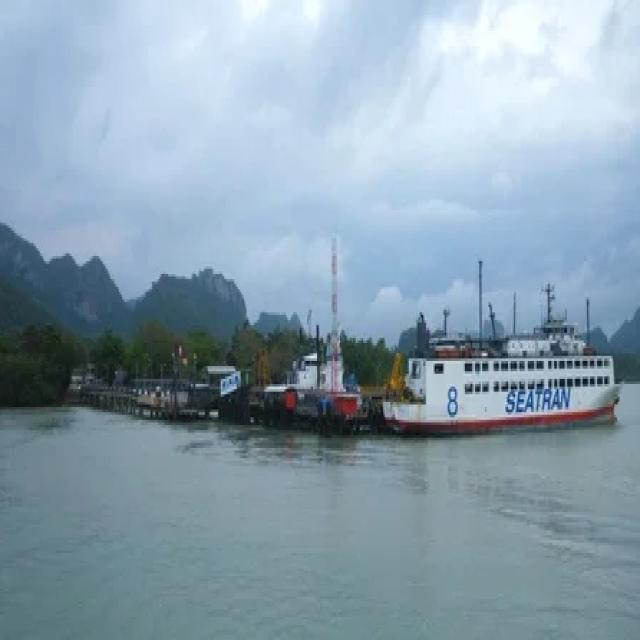passenger ship: (397, 289, 640, 433)
